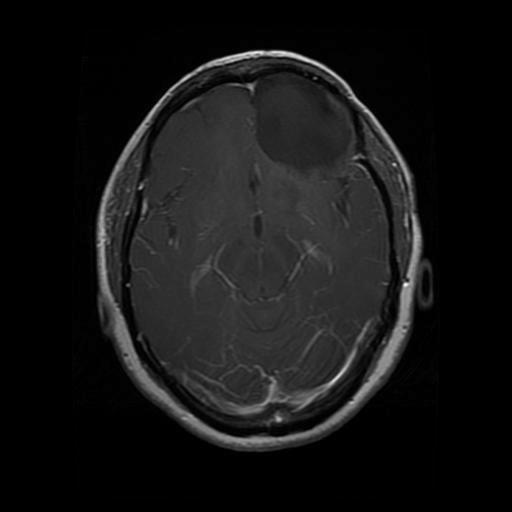Tumour-Glioma: (253, 70, 364, 178)
